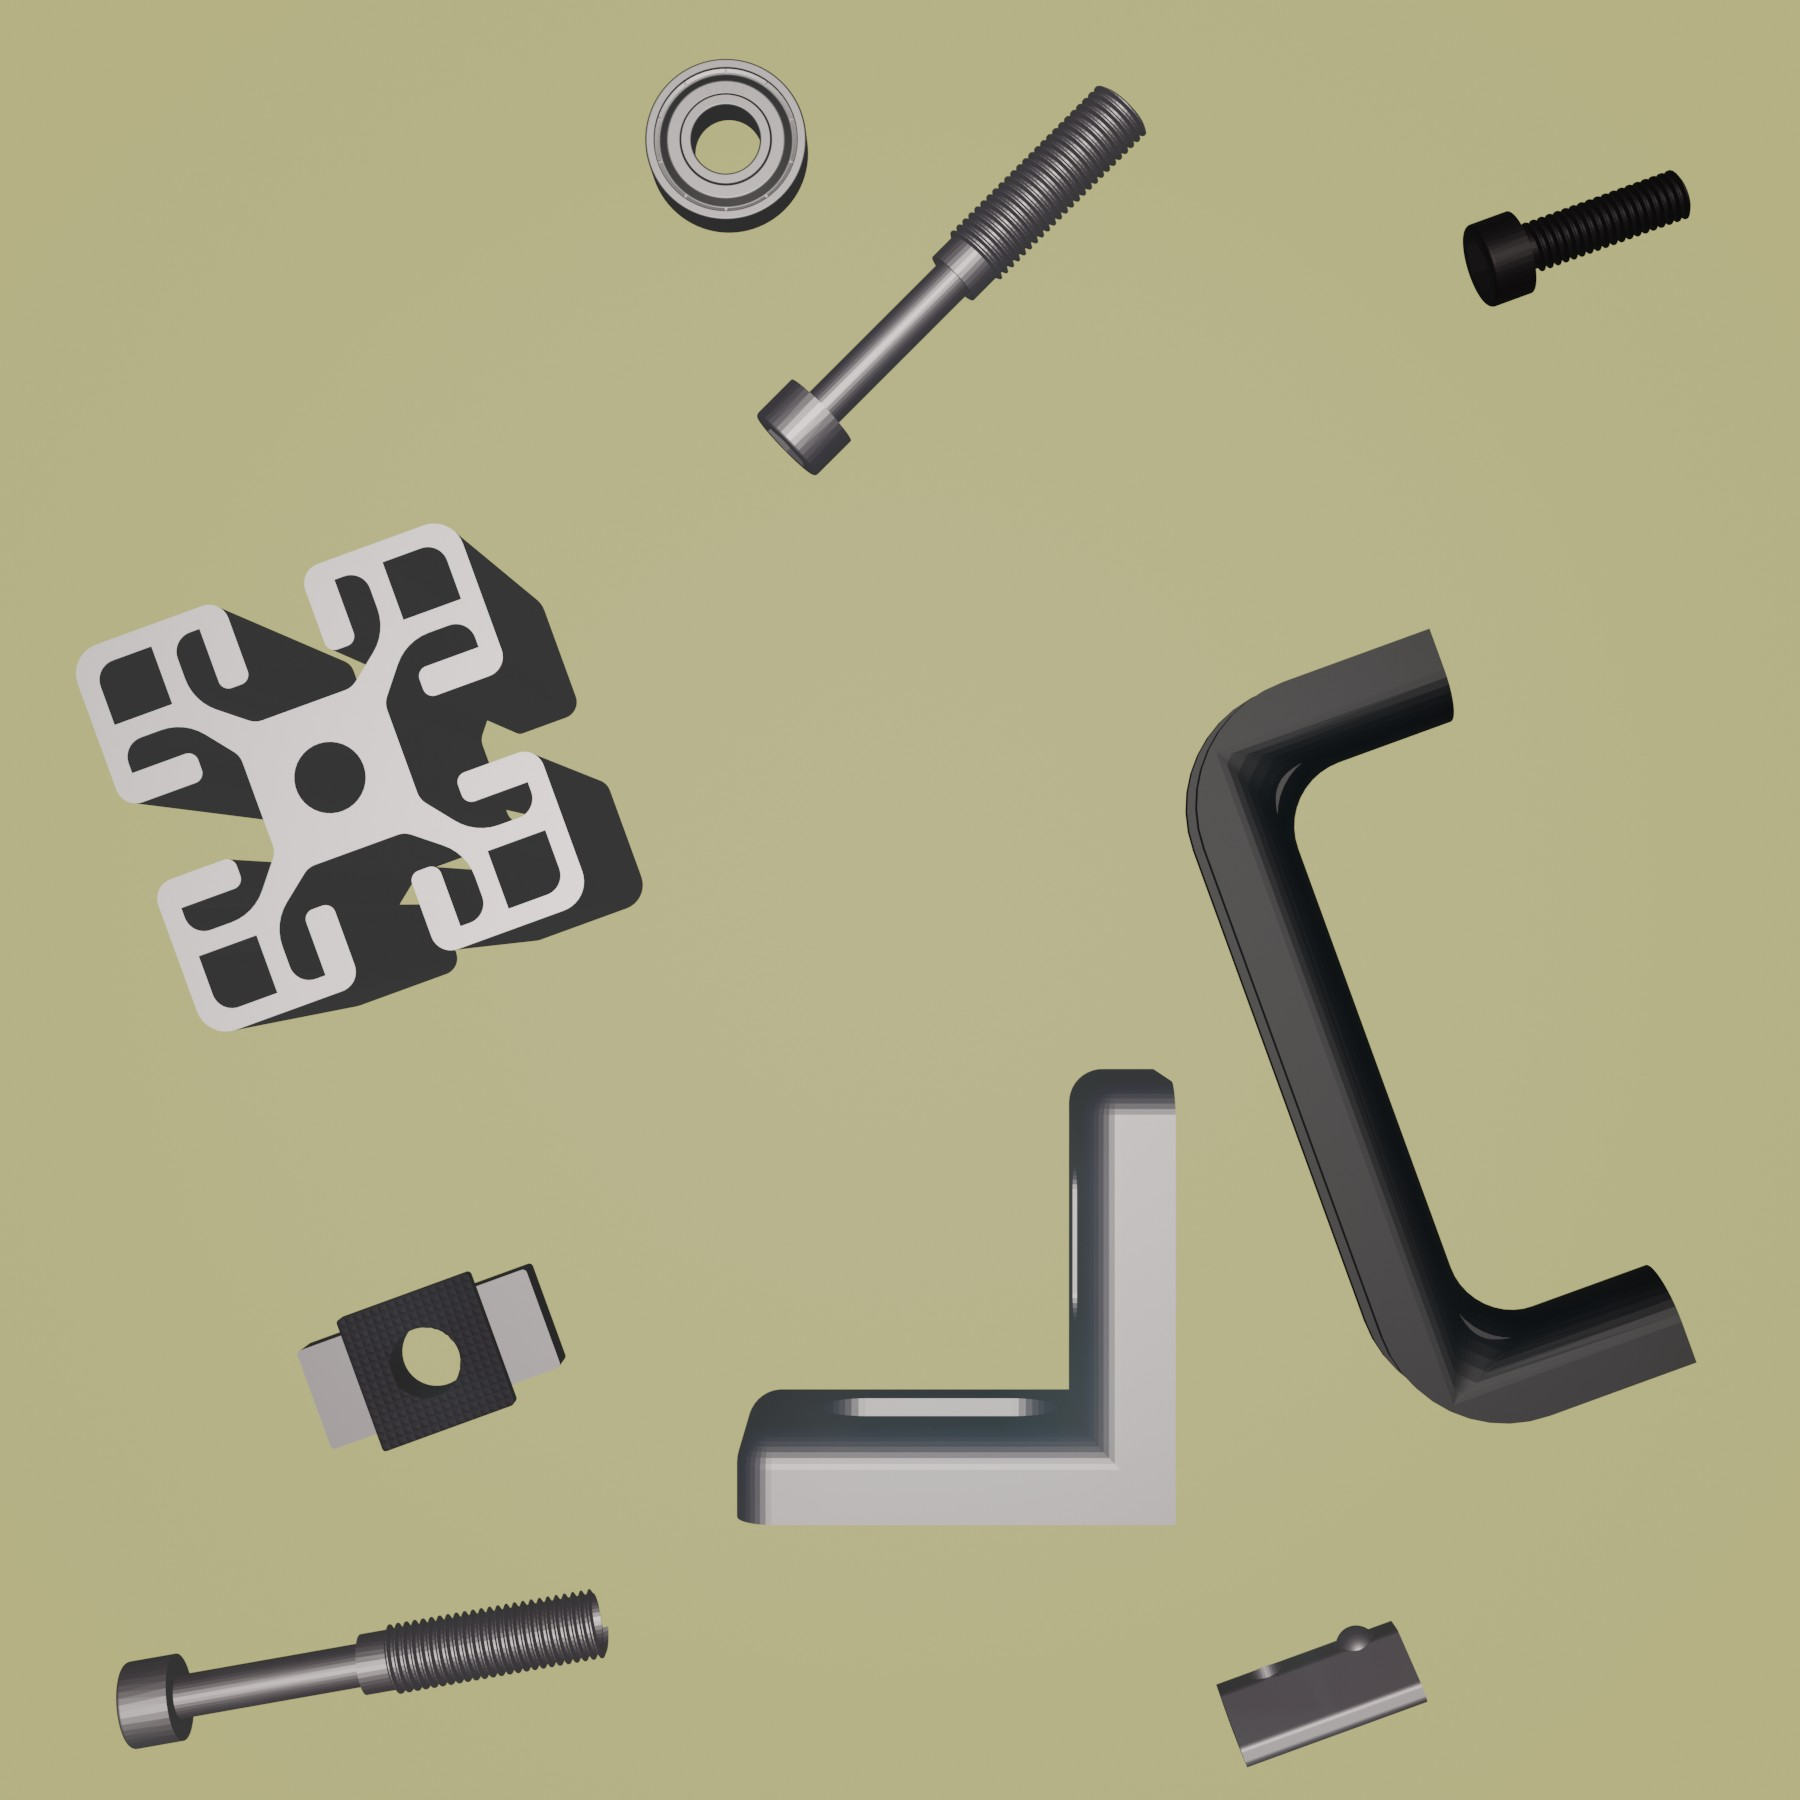Aluminium Extension: (74, 523, 646, 1038)
Ball Bearing: (645, 54, 809, 234)
Multiwinkel: (730, 1062, 1187, 1535)
Pull Handle: (1184, 625, 1698, 1427)
Shoulder Socket Head Cap Screw: (757, 82, 1147, 478), (114, 1586, 612, 1751)
Socket Head Cap Screw: (1460, 166, 1696, 307)
T Nut Square: (297, 1254, 570, 1452)
T Spring Nut: (1215, 1614, 1432, 1774)
